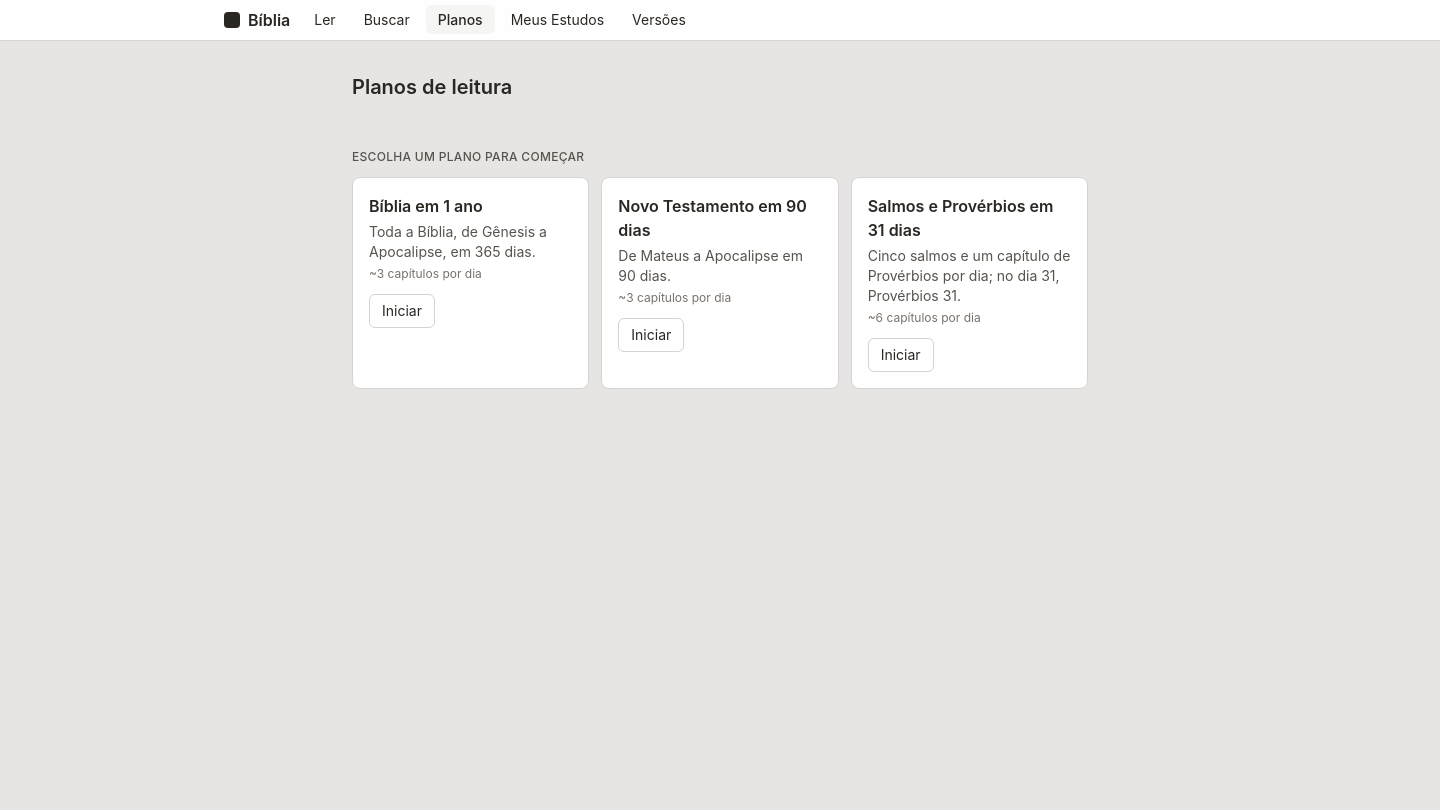
Planos de leitura (UC07/UC08) › sem planos, mostra o catálogo; iniciar pede a data (padrão hoje) (UC07)
Check: the heading "Escolha um plano para começar" is shown, box [352,149,584,164]
What coordinates should you click on to do the following:
click the button with aria-label "Iniciar Novo Testamento em 90 dias"
I would click on:
 (651, 335)
Its box is [618,318,684,352].
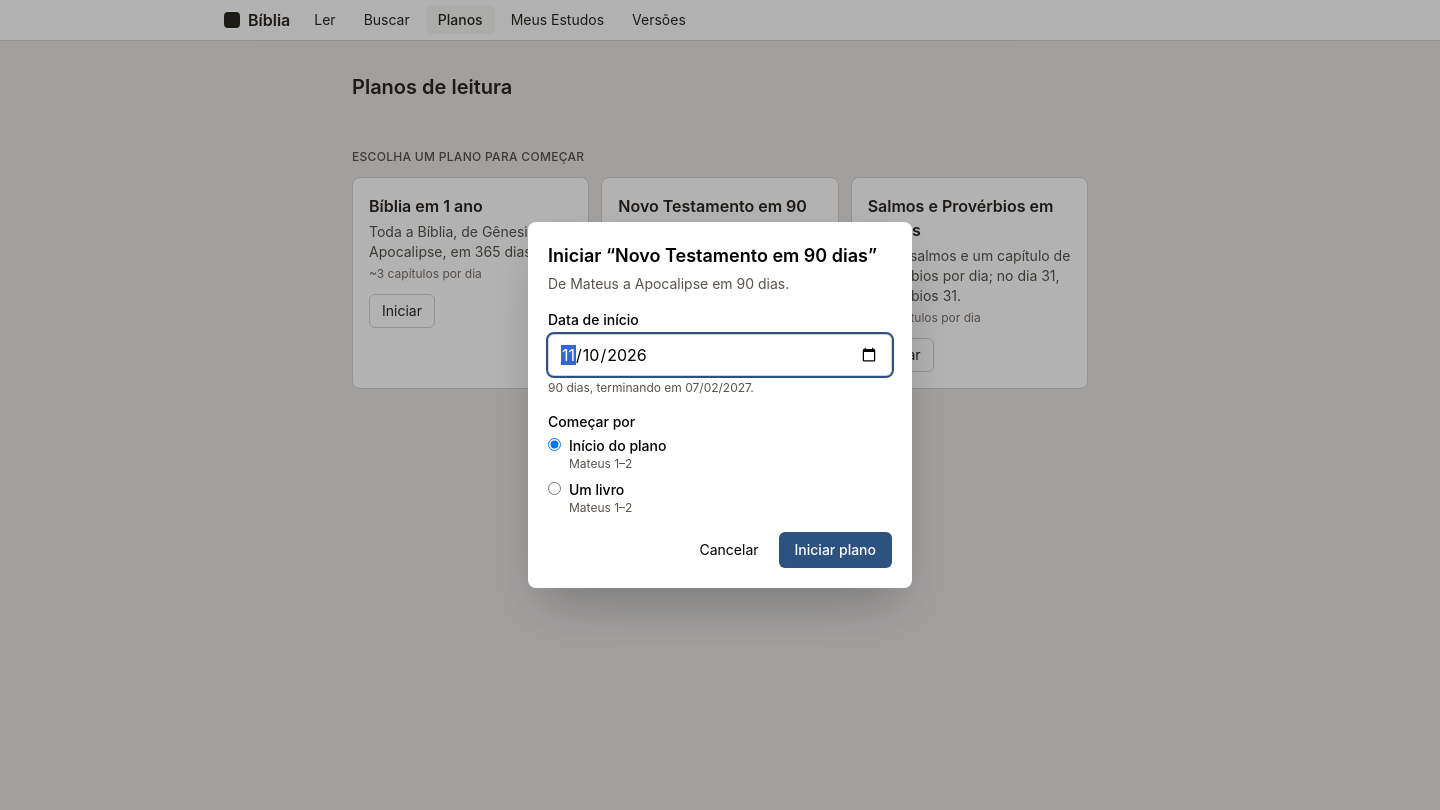
Check: the date field labelled "Data de início" holds "2026-11-10", box [548,334,892,376]
Check: the text "90 dias, terminando em 07/02/2027." is shown, box [548,380,754,395]
What coordinates should you click on to do the following:
click the button "Iniciar plano"
I would click on:
 (835, 550)
Its box is [778,532,892,568].
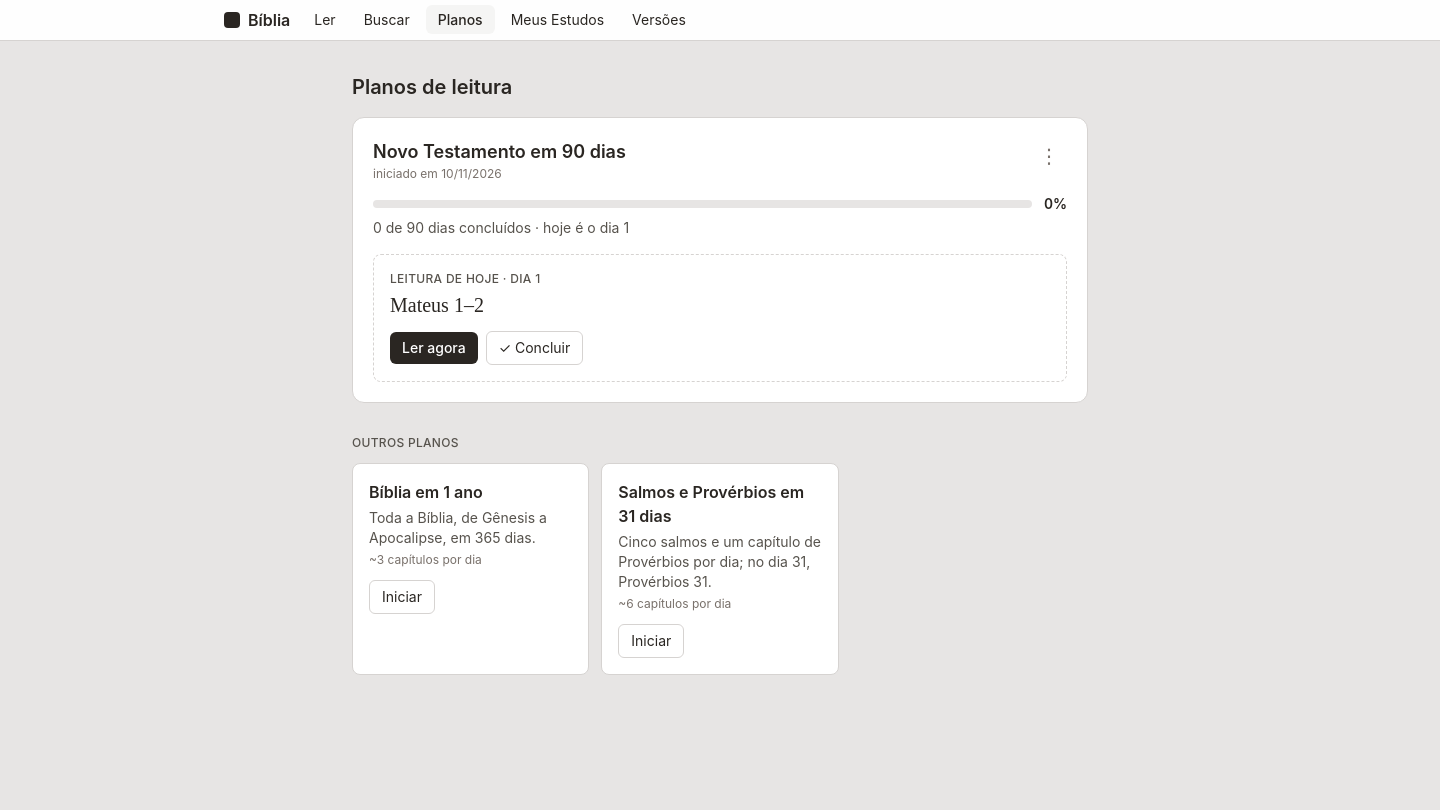
Check: the text "Mateus 1–2" is shown, box [390,294,484,316]
Check: the heading "Leitura de hoje · dia 1" is shown, box [390,271,540,286]
Check: the heading "Outros planos" is shown, box [352,435,459,450]
